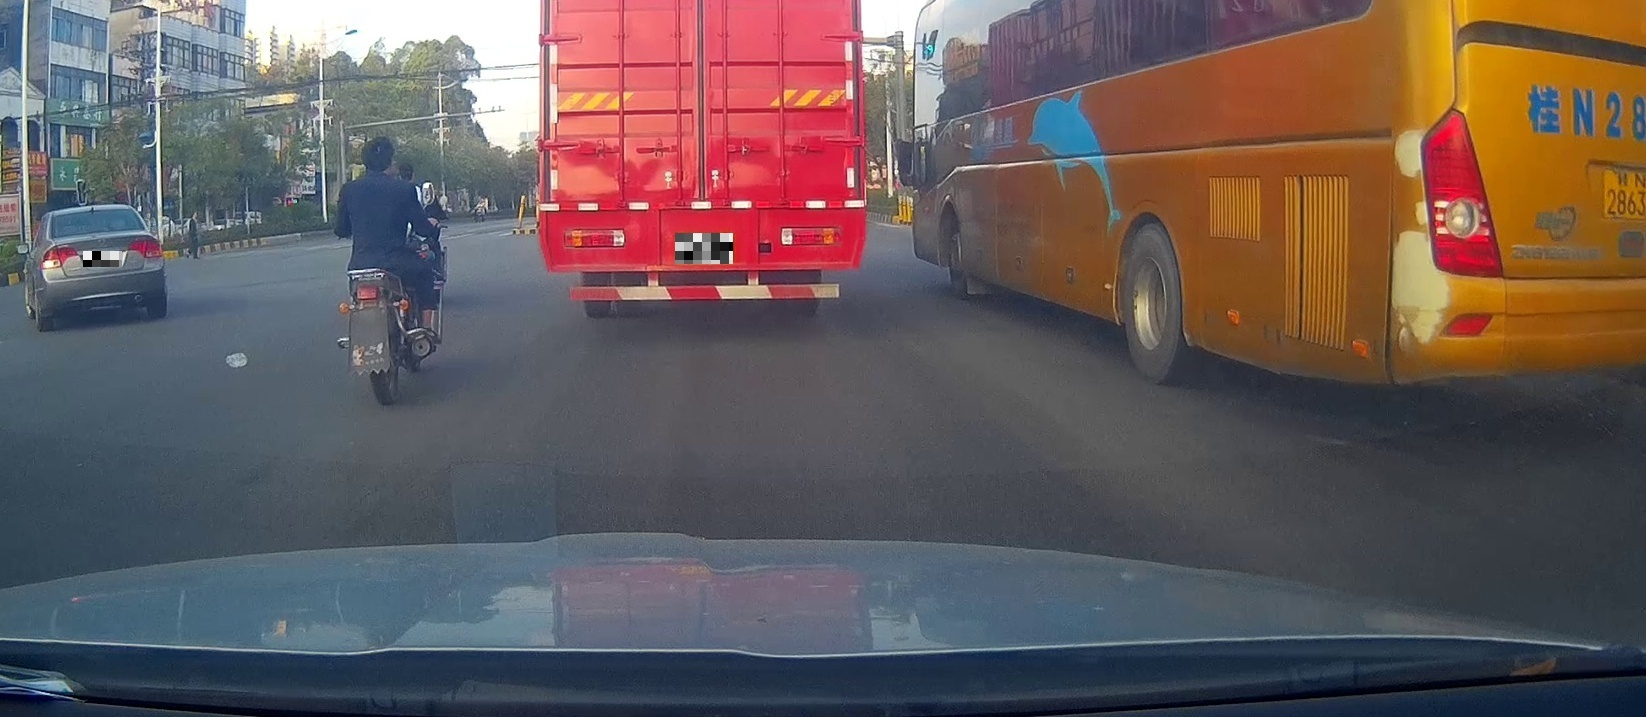L_light: (39, 245, 79, 269)
R_light: (126, 239, 164, 258)
T_light: (82, 207, 104, 214)
day-left: (34, 204, 168, 333)
plate_1: (83, 251, 122, 267)
plate_2: (675, 233, 733, 263)
